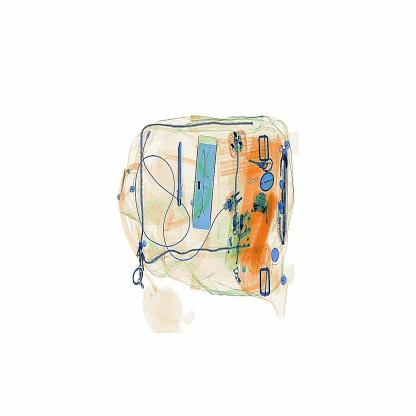pliers: (169, 137, 189, 224)
